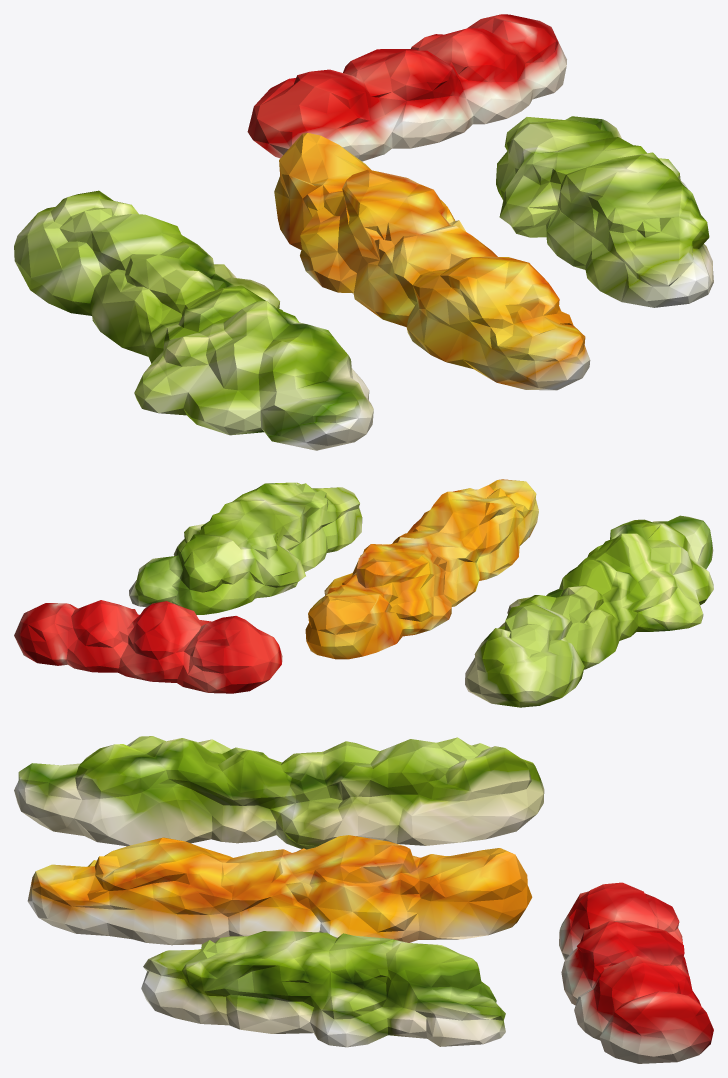
File: HariboC.fbx
The picture shows the model from 3 angles, top to bottom: view 1: azimuth 30°, elevation 25°; view 2: azimuth 150°, elevation 25°; view 3: azimuth 270°, elevation 25°; orthographic projection. The views are drawn at different scales.
Visible parts, largest first — view 1: Mesh1.0; view 2: Mesh1.0; view 3: Mesh1.0.
Part boxes in pixels (left/top/right/bottom): Mesh1.0: left=14, top=14, right=713, bottom=450; Mesh1.0: left=14, top=479, right=713, bottom=707; Mesh1.0: left=14, top=736, right=713, bottom=1063.
Bounding box in the file's own units: 191 × 23.62 × 189.
